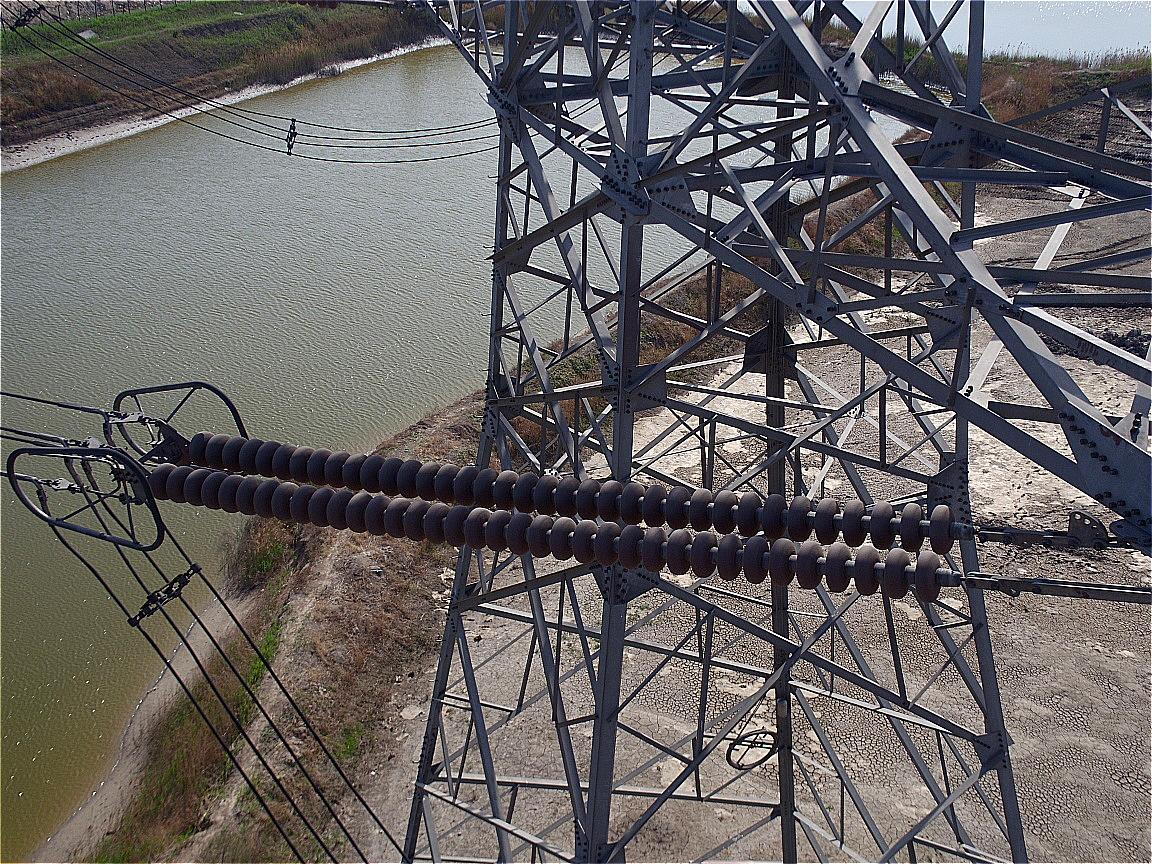insultor1: (152, 431, 952, 602)
